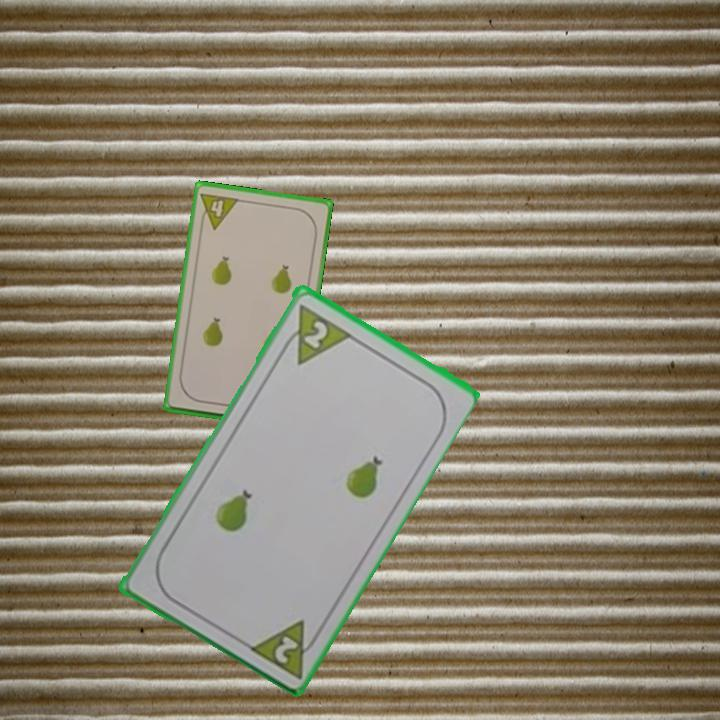2p: (244, 615, 325, 681), (276, 299, 352, 367)
4p: (196, 189, 242, 232)
